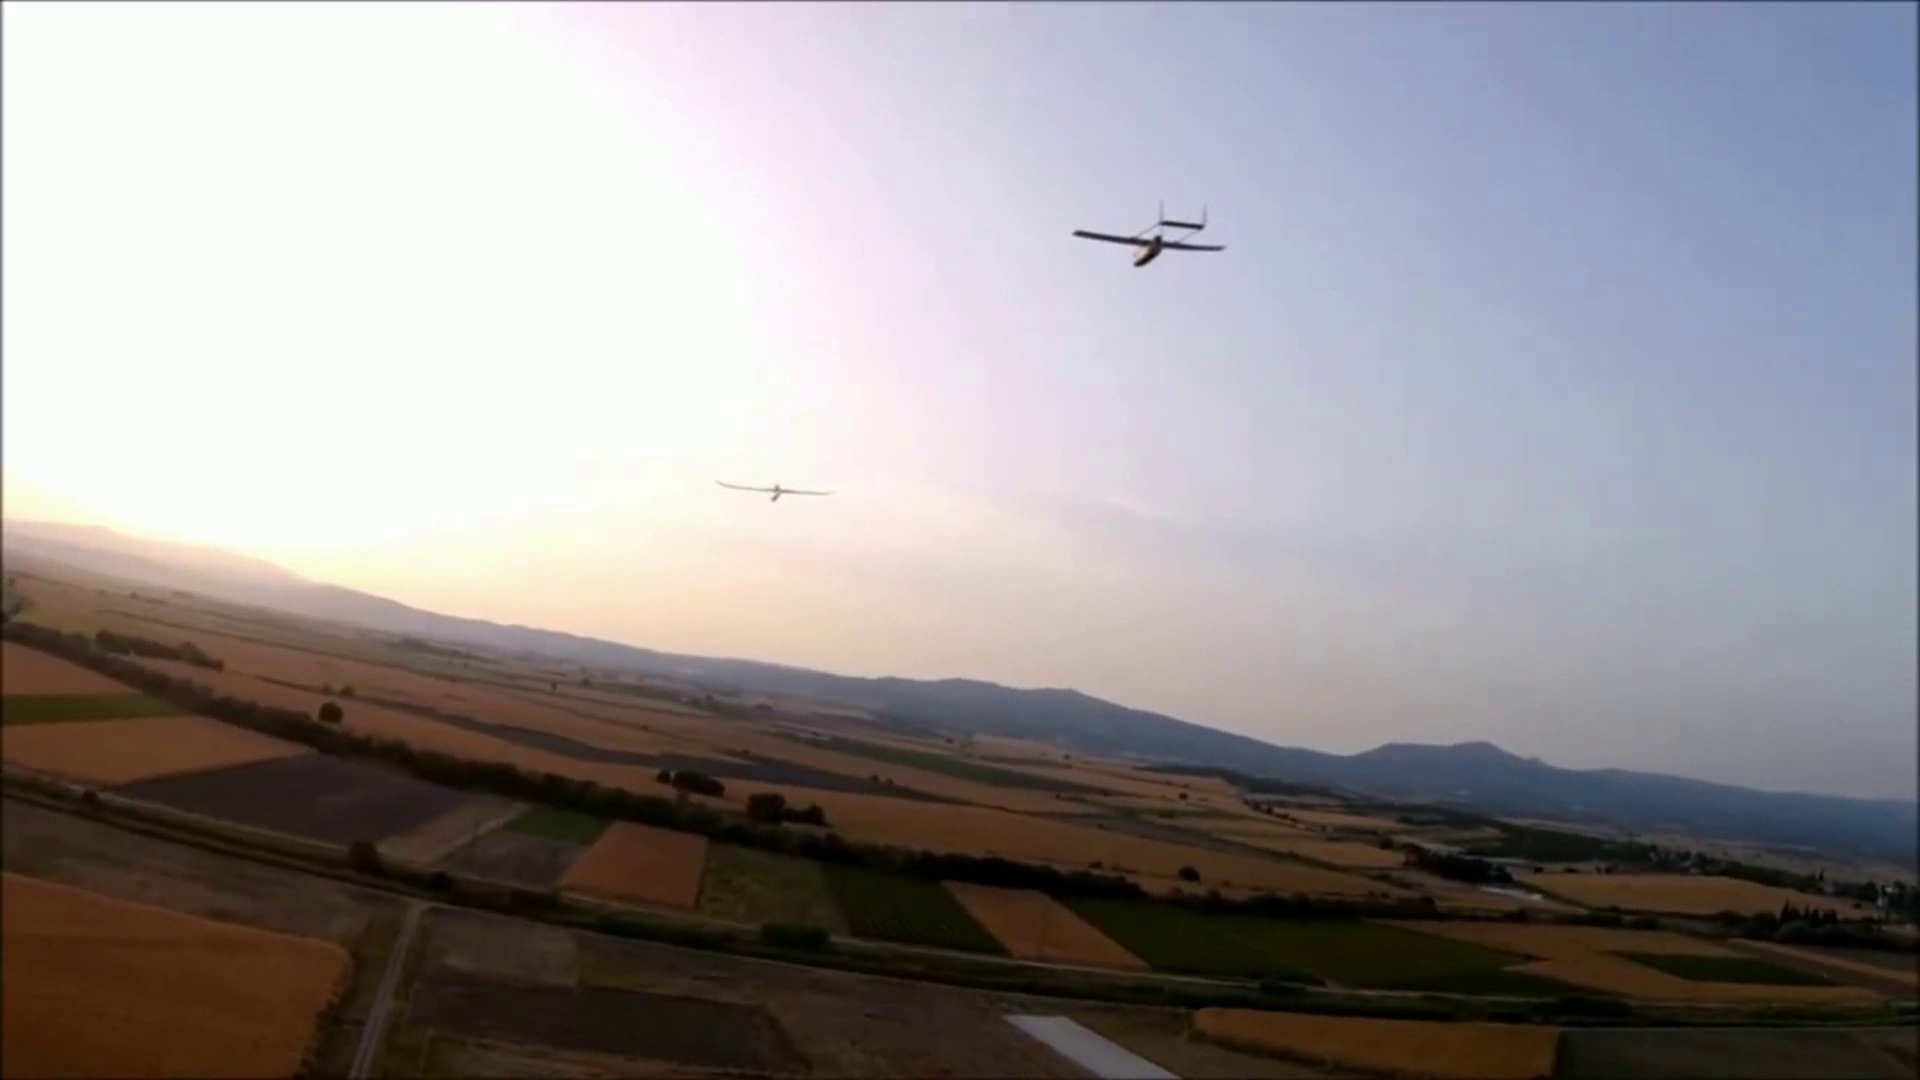airplane: (1069, 203, 1226, 266)
